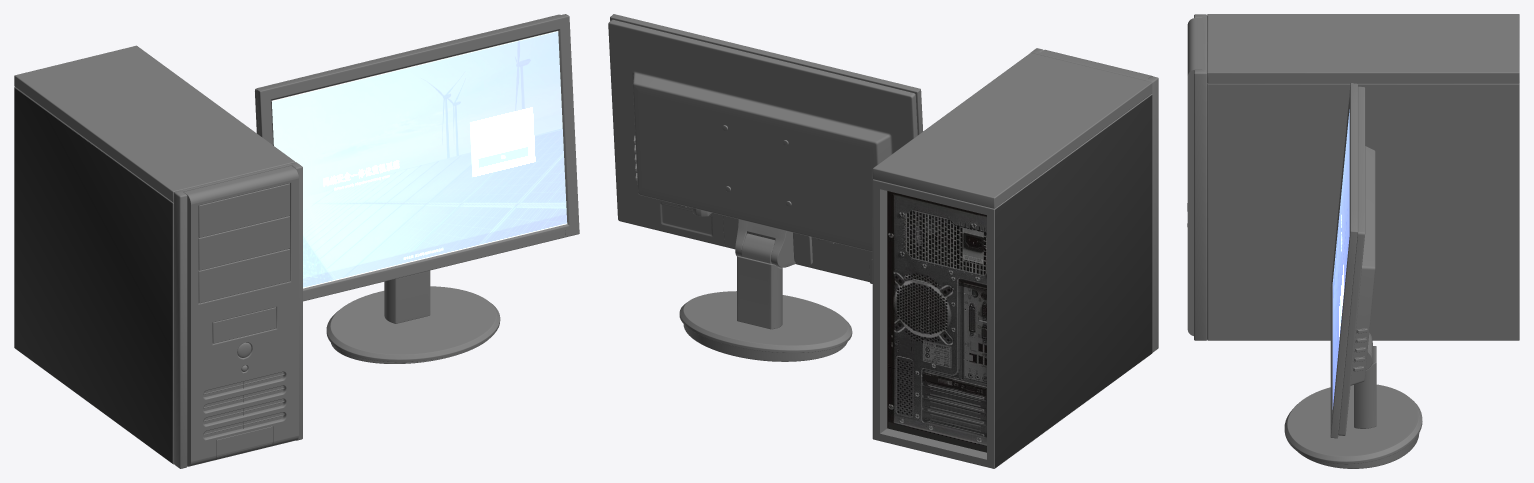
File: server.gltf
The picture shows the model from 3 angles, left to right: view 1: azimuth 30°, elevation 25°; view 2: azimuth 150°, elevation 25°; view 3: azimuth 270°, elevation 25°; orthographic projection.
Parts seen in each view (by area): view 1: cgaxis_electronics_18_06.1-材质, obj_02-材质, cgaxis_electronics_18_06.1-Default, obj_02-Default, obj_01, obj_03; view 2: cgaxis_electronics_18_06.1-Default, obj_02-材质, obj_02-Default, obj_02.1, obj_01; view 3: obj_02-Default, cgaxis_electronics_18_06.1-Default, obj_01, obj_03, cgaxis_electronics_18_06.1-材质.
Boxes of the visible parts, left/top/right/bottom form: cgaxis_electronics_18_06.1-材质: left=271, top=31, right=567, bottom=288; obj_02-材质: left=14, top=88, right=172, bottom=463; cgaxis_electronics_18_06.1-Default: left=255, top=14, right=579, bottom=363; obj_02-Default: left=14, top=45, right=295, bottom=464; obj_01: left=174, top=162, right=302, bottom=468; obj_03: left=183, top=165, right=298, bottom=466; cgaxis_electronics_18_06.1-Default: left=608, top=14, right=923, bottom=361; obj_02-材质: left=995, top=95, right=1152, bottom=467; obj_02-Default: left=872, top=53, right=1152, bottom=468; obj_02.1: left=887, top=191, right=986, bottom=452; obj_01: left=1030, top=48, right=1158, bottom=352; obj_02-Default: left=1207, top=14, right=1519, bottom=340; cgaxis_electronics_18_06.1-Default: left=1284, top=83, right=1422, bottom=468; obj_01: left=1187, top=14, right=1207, bottom=340; obj_03: left=1187, top=18, right=1202, bottom=335; cgaxis_electronics_18_06.1-材质: left=1332, top=109, right=1349, bottom=409.
Size of the model in its own units: 708 by 405 by 442.
Materials: 4 (2 with a texture image).
